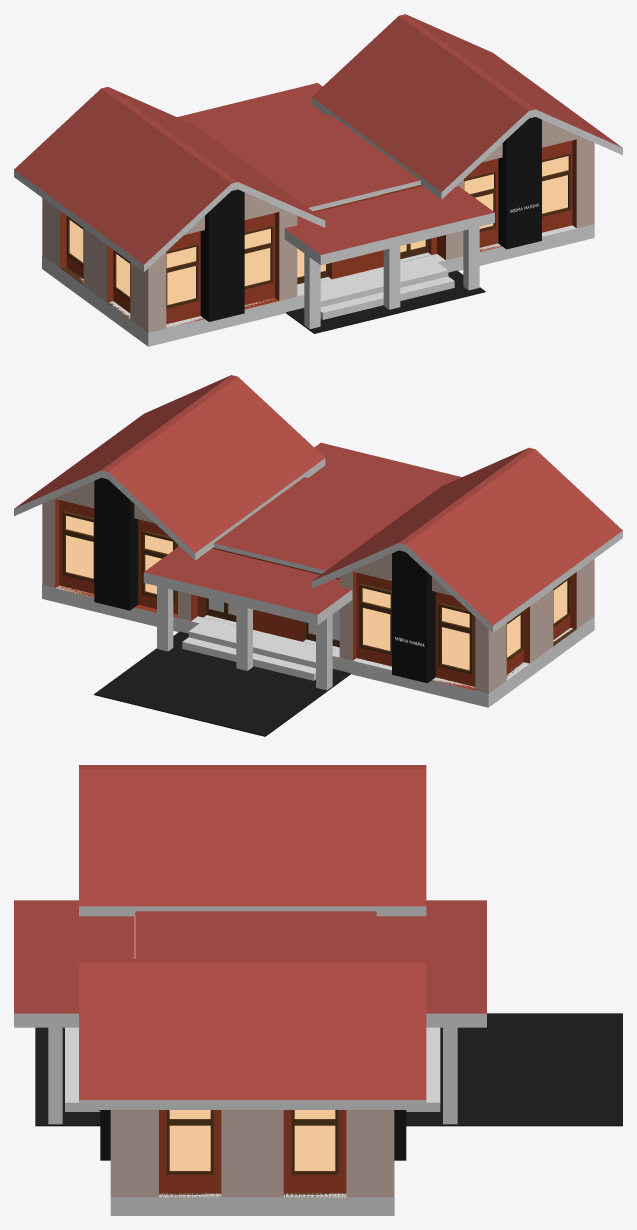
File: wisma2.glb
3 renders of one model, top to bottom at view 1: azimuth 30°, elevation 25°; view 2: azimuth 150°, elevation 25°; view 3: azimuth 270°, elevation 25°, orthographic. The views are drawn at different scales.
Visible parts, largest first — view 1: Plane.005, Plane.003, Plane.007, Plane.006, Plane.009, Plane, Plane.001, Plane.008, Plane.011, Plane.002; view 2: Plane.005, Plane.003, Plane.007, Plane.011, Plane.006, Plane.009, Plane, Plane.004, Plane.008, Plane.010; view 3: Plane.005, Plane.003, Plane.011, Plane.007, Plane.006, Plane, Plane.008, Plane.004, Plane.001, Plane.009.
Boxes of the visible parts, x1,y1,x2,y2 form: Plane.005: (14,14,622,271); Plane.003: (42,120,594,332); Plane.007: (177,83,494,265); Plane.006: (218,114,420,210); Plane.009: (200,117,541,321); Plane: (42,224,594,346); Plane.001: (320,262,454,319); Plane.008: (304,227,479,329); Plane.011: (286,270,485,333); Plane.002: (297,185,436,287); Plane.005: (14,375,622,632); Plane.003: (42,481,594,693); Plane.007: (143,442,461,625); Plane.011: (94,631,350,736); Plane.006: (213,477,416,578); Plane.009: (94,477,435,683); Plane: (42,585,594,707); Plane.004: (182,623,315,680); Plane.008: (157,586,332,690); Plane.010: (197,547,339,650); Plane.005: (79,765,426,1109); Plane.003: (110,1110,394,1197); Plane.011: (35,1013,622,1126); Plane.007: (14,900,486,1027); Plane.006: (135,911,376,958); Plane: (110,1161,394,1215); Plane.008: (48,1027,457,1124); Plane.004: (406,1027,440,1111); Plane.001: (65,1027,100,1111); Plane.009: (100,1110,406,1160).
Bounding box in the file's own units: 19.85 × 6.13 × 16.37.
